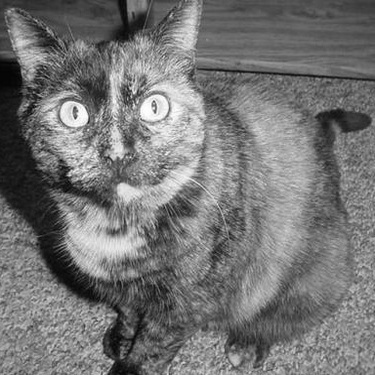cat: (6, 4, 370, 372)
